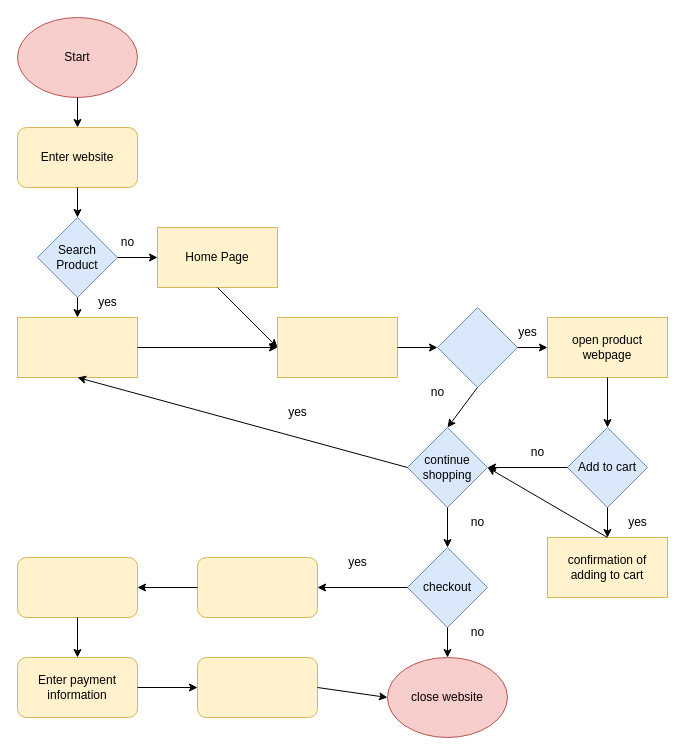
This 685x755 diagram has some shape labels left out. The shapes that lost their labels are listed below. From the top down, each one's centre as x and y in pixels, then its label:
(x=77, y=347): provide input to search
(x=337, y=347): Look at products
(x=477, y=347): open product
(x=77, y=587): view payment screen
(x=257, y=587): view cart screen
(x=257, y=687): order confirmation and receive email
